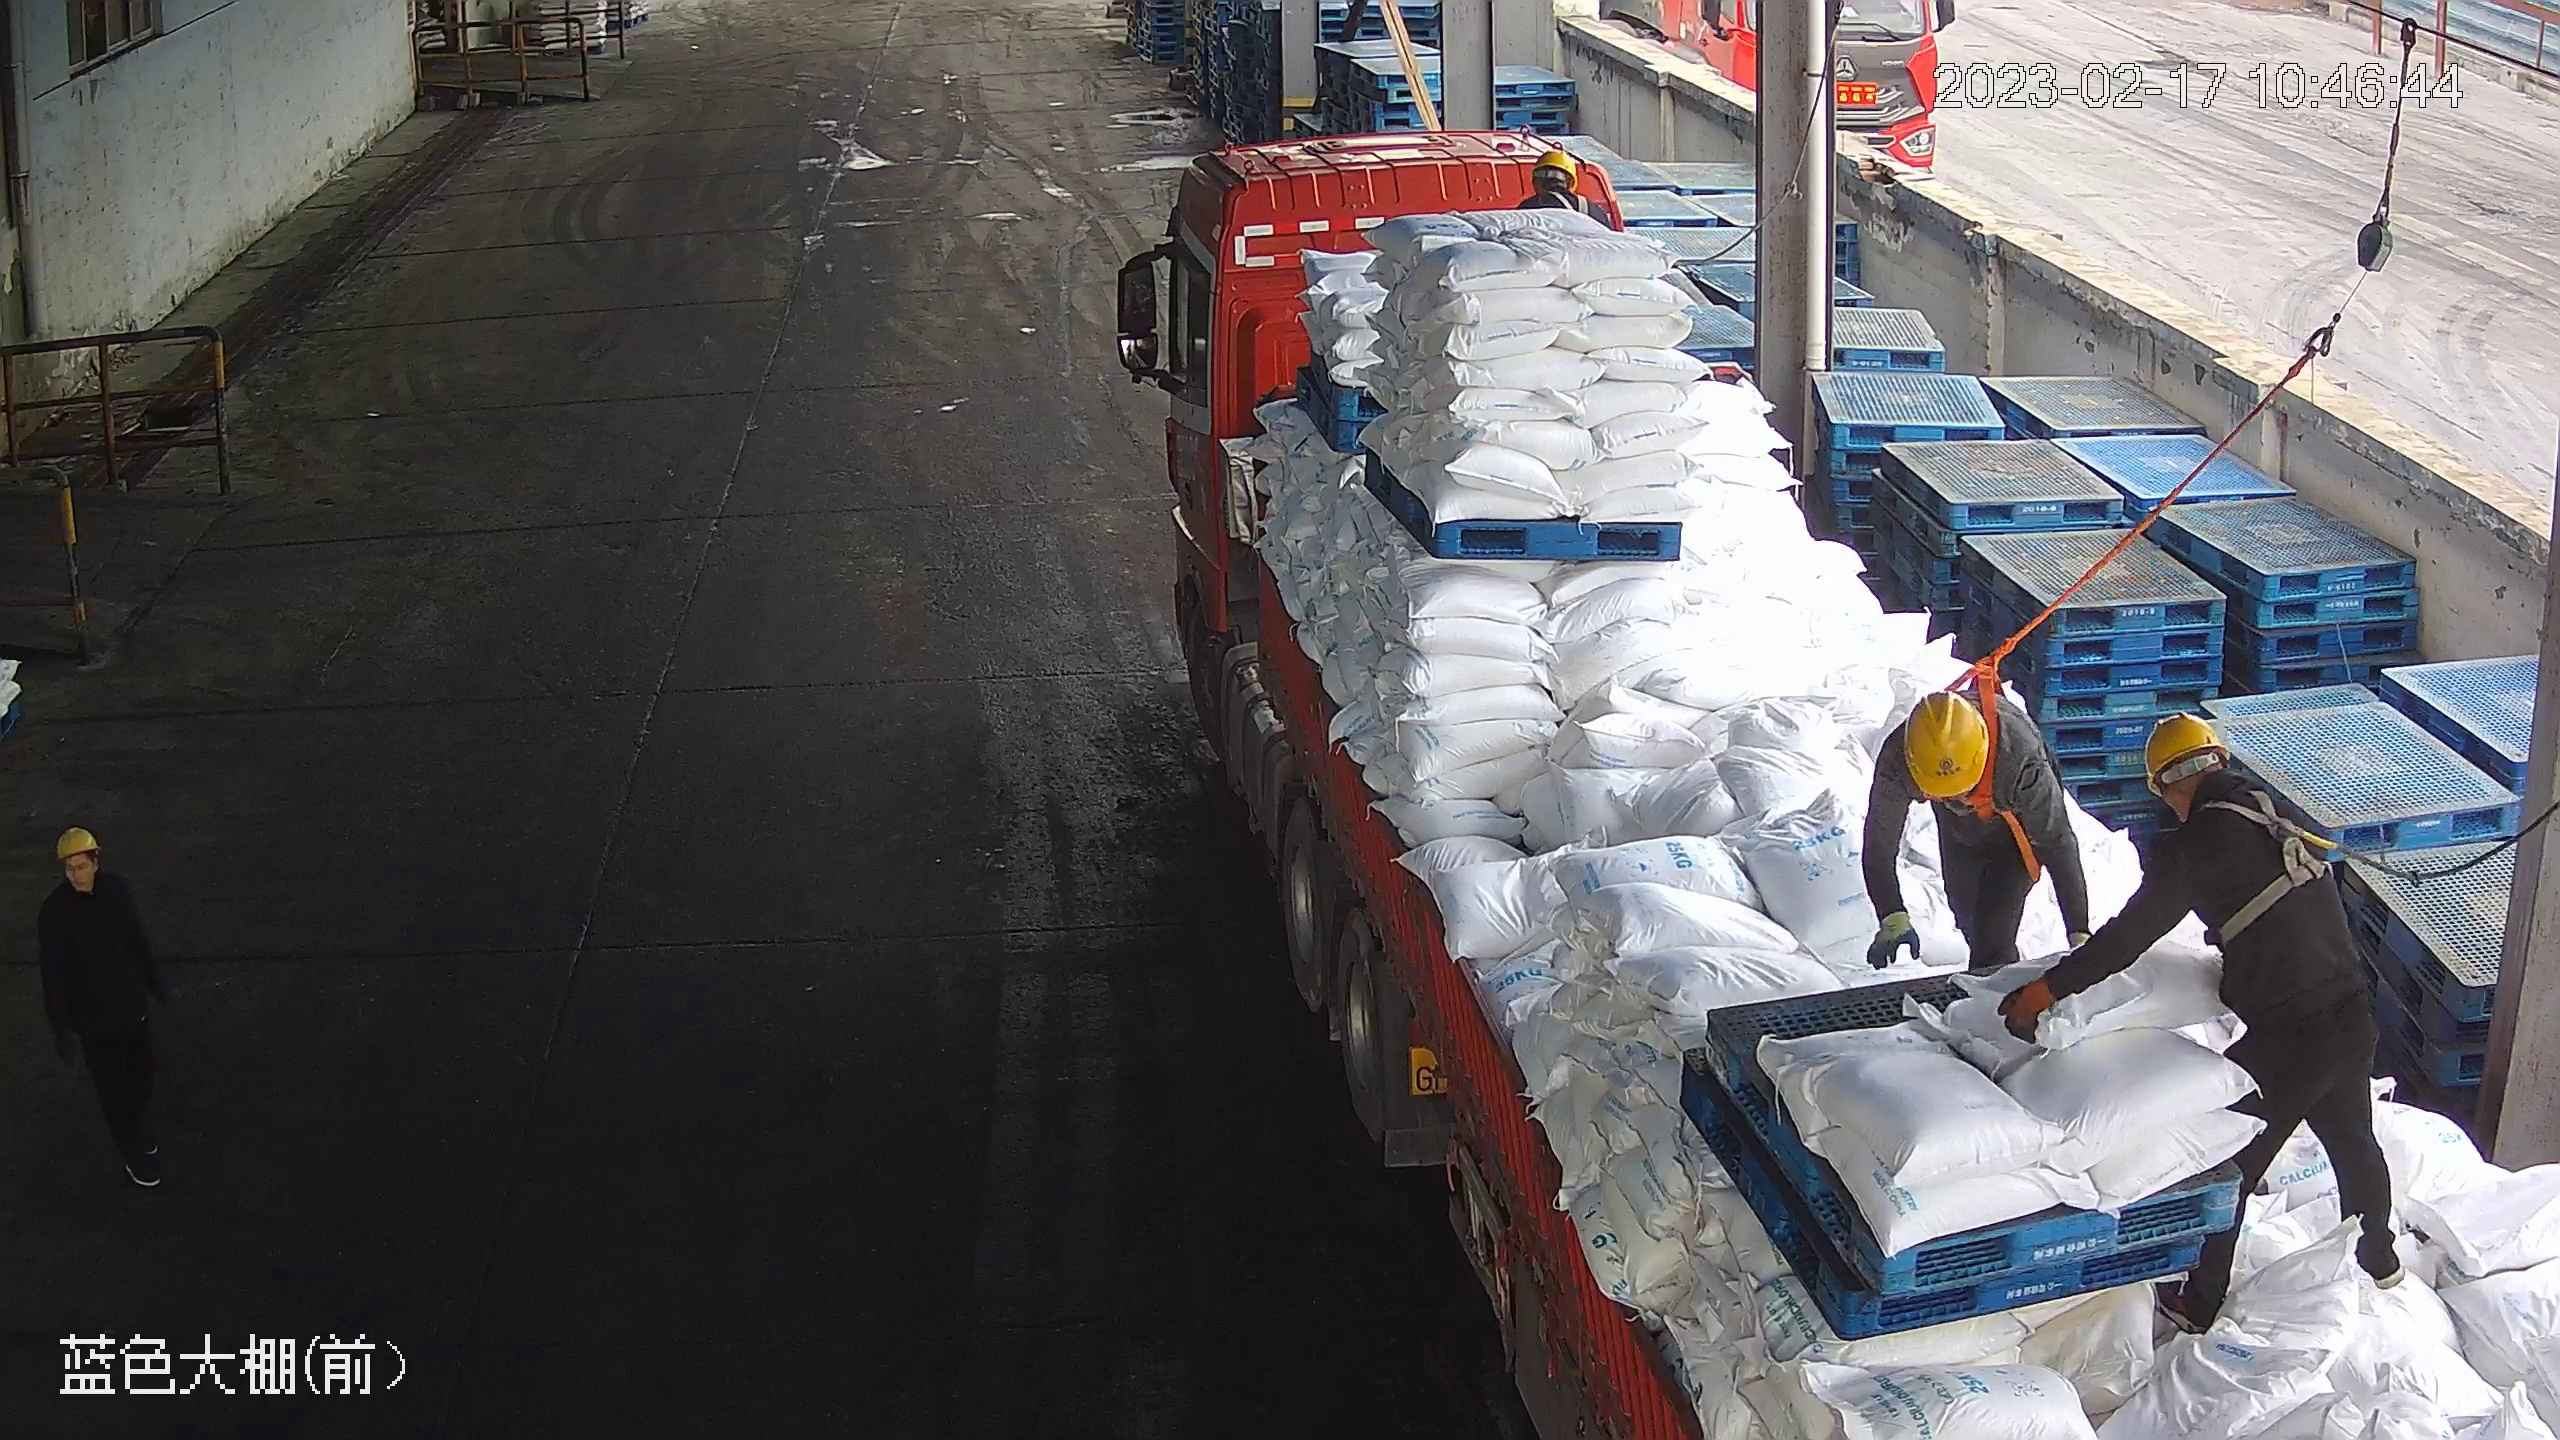belt: (2204, 781, 2353, 961), (1937, 639, 2049, 844)
head: (2138, 712, 2313, 888), (1879, 683, 2053, 847), (38, 827, 149, 946), (1518, 147, 1613, 231)
helmet: (1905, 691, 1987, 798), (2142, 714, 2232, 796), (1530, 151, 1575, 188), (56, 827, 98, 859)
people: (1995, 707, 2412, 1332), (1855, 685, 2097, 984), (41, 827, 180, 1195)
truck: (1113, 122, 2560, 1440)
